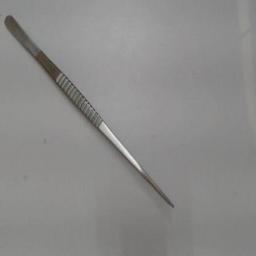DeBakey Dissector: (2, 7, 178, 213)
